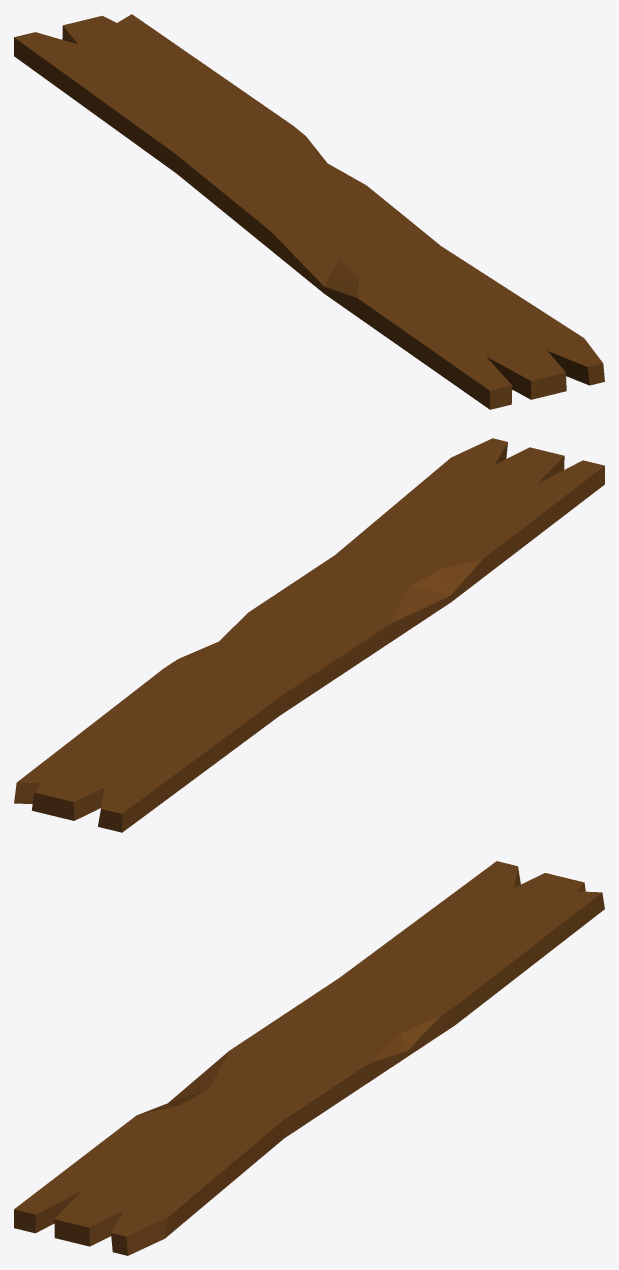
Rendered from WoodPlank.fbx.
3 renders of one model, top to bottom at view 1: azimuth 30°, elevation 25°; view 2: azimuth 150°, elevation 25°; view 3: azimuth 330°, elevation 25°, orthographic.
Visible parts, largest first — view 1: WoodPlank; view 2: WoodPlank; view 3: WoodPlank.
Part boxes in pixels (x1,y1,x2,y2): WoodPlank: [14, 14, 604, 409]; WoodPlank: [14, 438, 604, 832]; WoodPlank: [14, 861, 604, 1255].
Bounding box in the file's own units: 24.83 × 3.45 × 159.
